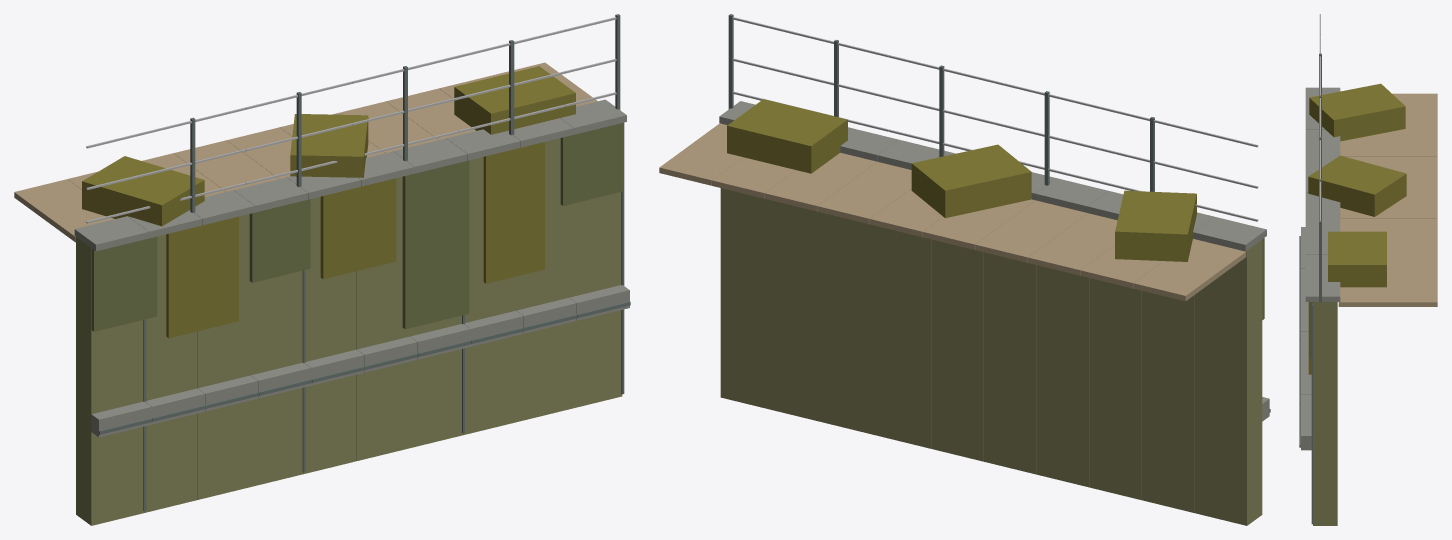
File: SM_MuroRampa_v2_Hiedra_e0_Sano_LOD0.fbx
3 views of the same model, side by side, from view 1: azimuth 30°, elevation 25°; view 2: azimuth 150°, elevation 25°; view 3: azimuth 270°, elevation 25° (orthographic). The views are drawn at different scales.
Visible parts, largest first — view 1: SM_muro_rampa_v8_LOD0; view 2: SM_muro_rampa_v8_LOD0; view 3: SM_muro_rampa_v8_LOD0.
Boxes of the visible parts, bbox=[...] form: SM_muro_rampa_v8_LOD0: bbox=[14, 14, 630, 525]; SM_muro_rampa_v8_LOD0: bbox=[659, 14, 1270, 525]; SM_muro_rampa_v8_LOD0: bbox=[1299, 14, 1437, 525].
Size of the model in its own units: 10.03 by 6.8 by 2.8.
